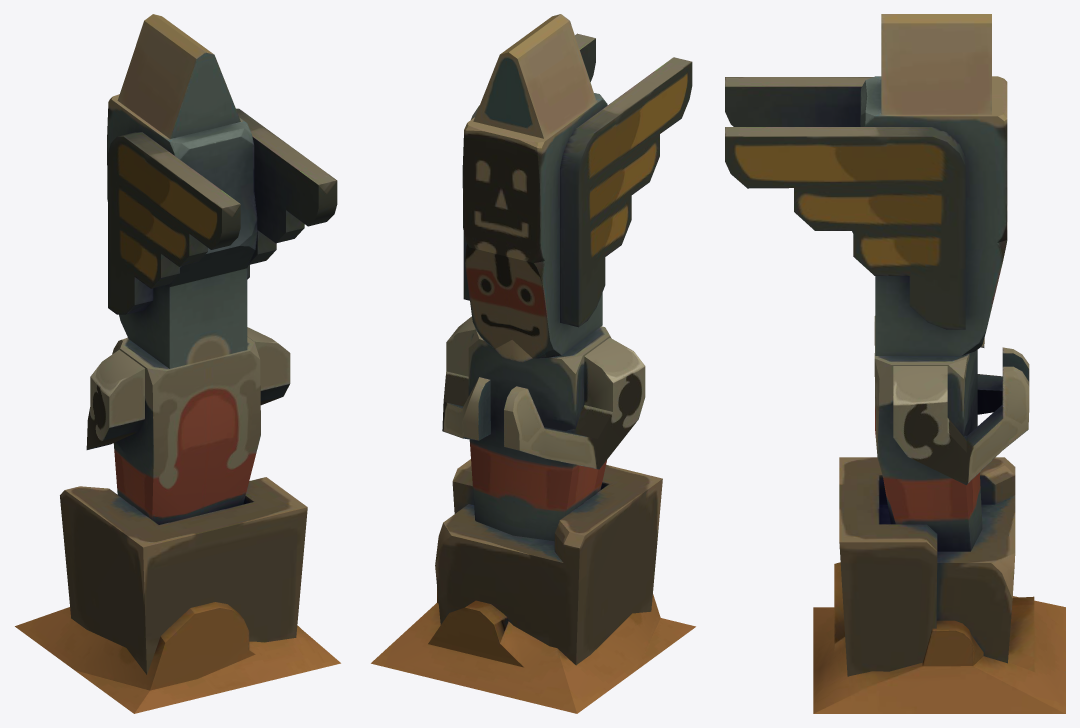
Rendered from OBJ_Sculpture_02.obj.
3 renders of one model, left to right at view 1: azimuth 30°, elevation 25°; view 2: azimuth 150°, elevation 25°; view 3: azimuth 270°, elevation 25°, orthographic. The views are drawn at different scales.
Visible parts, largest first — view 1: OBJ_Sculpture_02; view 2: OBJ_Sculpture_02; view 3: OBJ_Sculpture_02.
Boxes of the visible parts, <box> form: OBJ_Sculpture_02: <box>15,14,340,713</box>; OBJ_Sculpture_02: <box>371,14,695,713</box>; OBJ_Sculpture_02: <box>725,14,1065,713</box>.
Size of the model in its own units: 1.2 by 3.39 by 1.62.
Materials: 1 (1 with a texture image).
